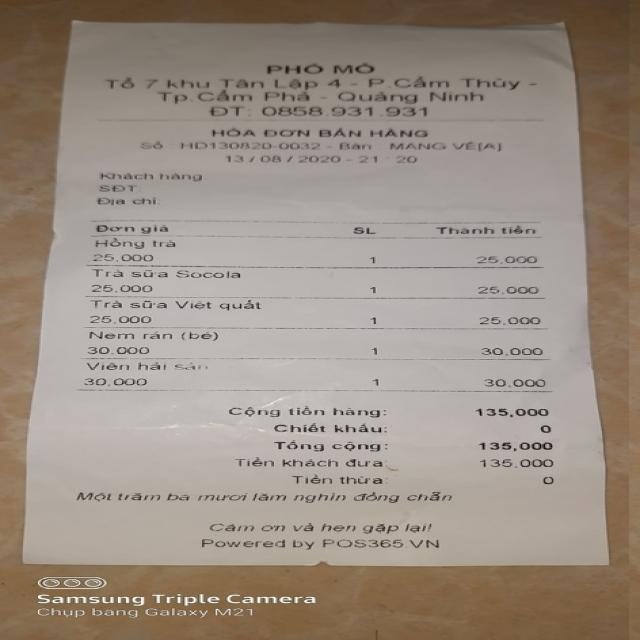Date: (223, 154, 342, 165)
Store_Name: (263, 62, 382, 76)
amount_number: (478, 441, 556, 452)
label_total: (270, 440, 384, 452)
